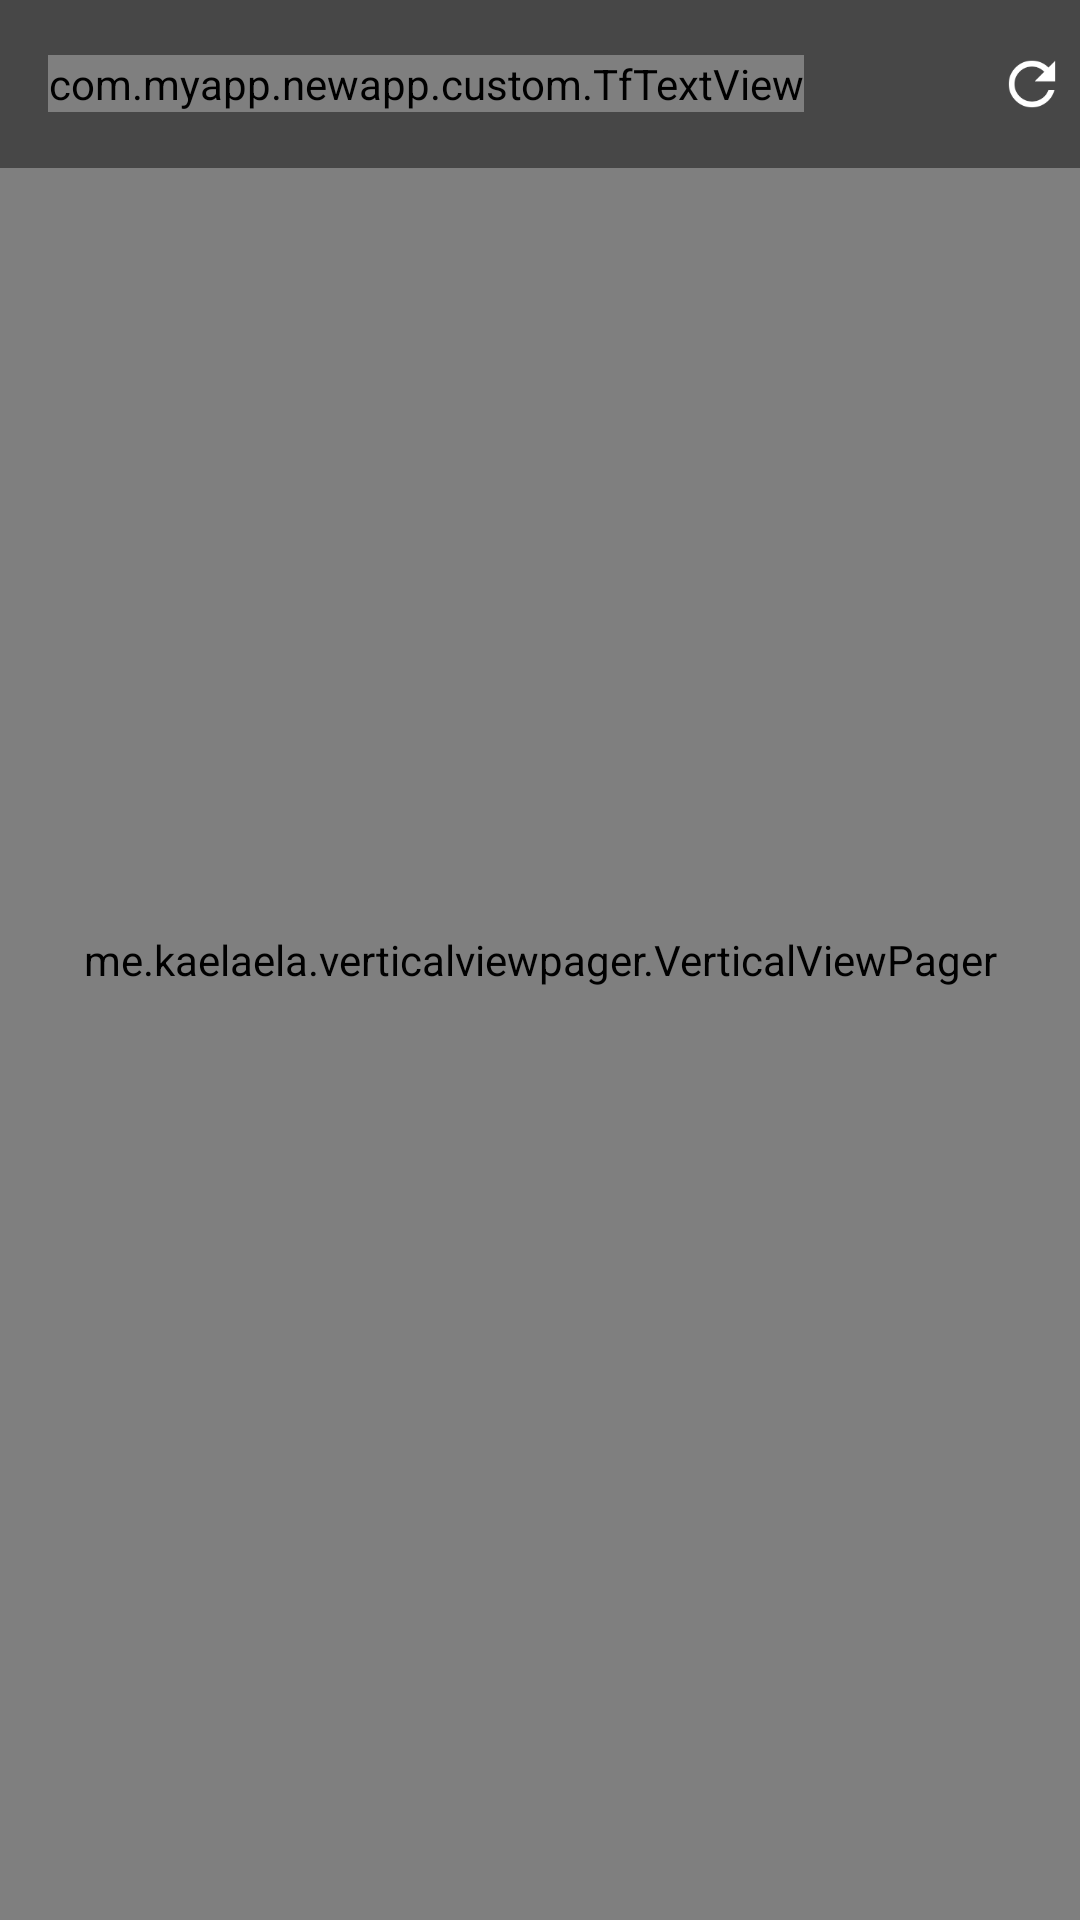

Locate icon controls on the screen. Image size 1080 × 1920, boxes as (x1, y1, x2, y2).
refresh: (1009, 60, 1056, 108)
